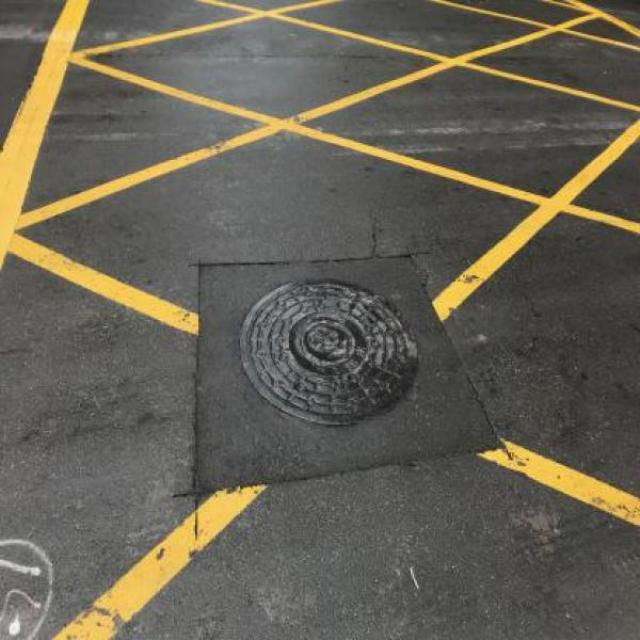Good: (228, 272, 430, 435)
